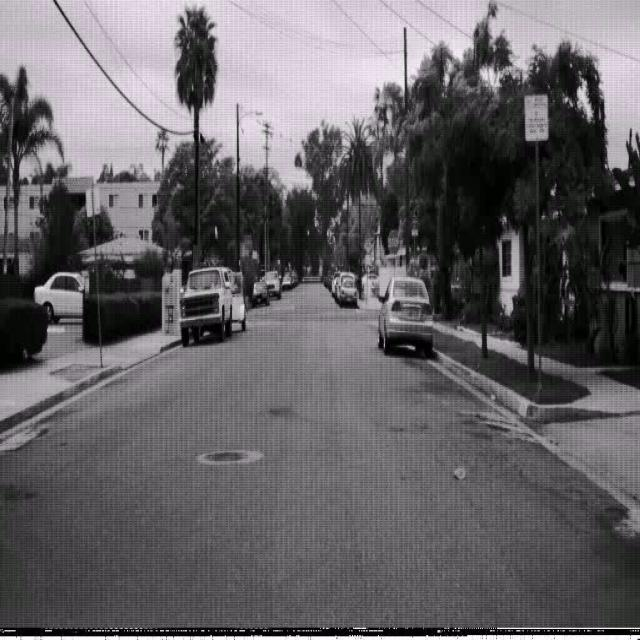stop: (387, 229, 400, 254)
